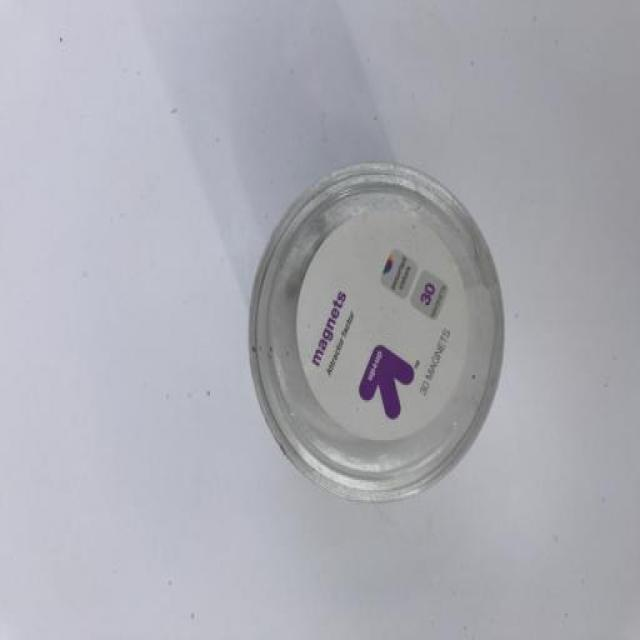metel: (154, 130, 515, 512)
